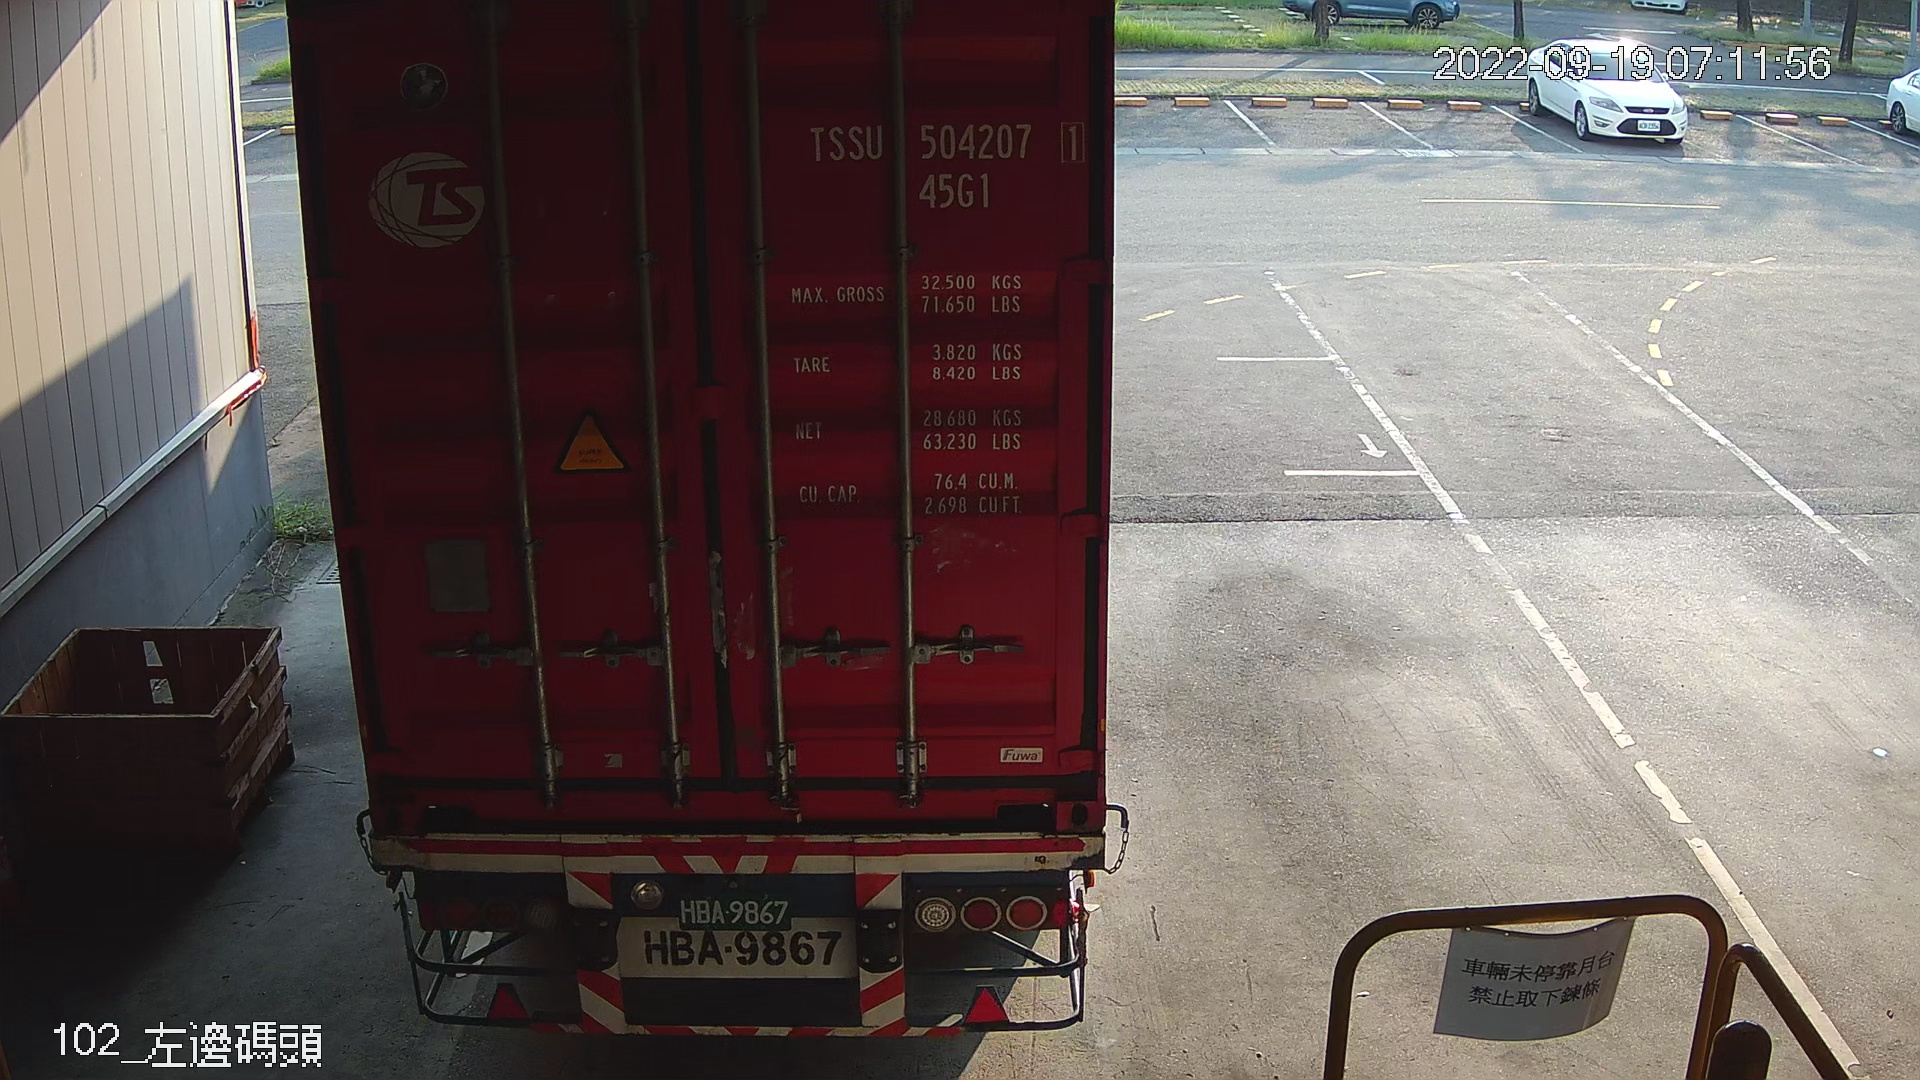container: (794, 104, 1100, 220)
